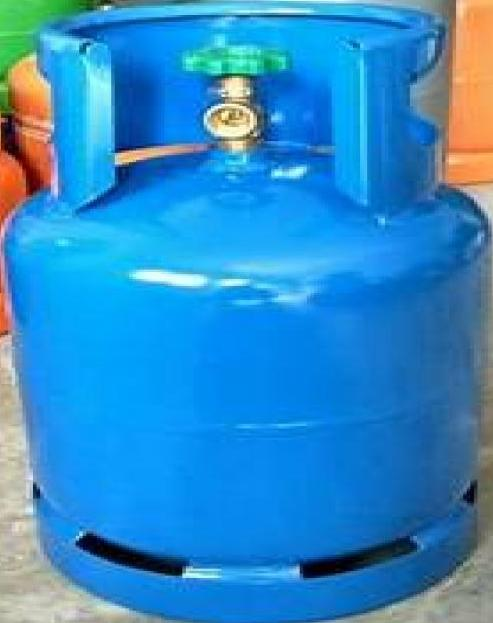cylinder: (1, 0, 493, 623)
